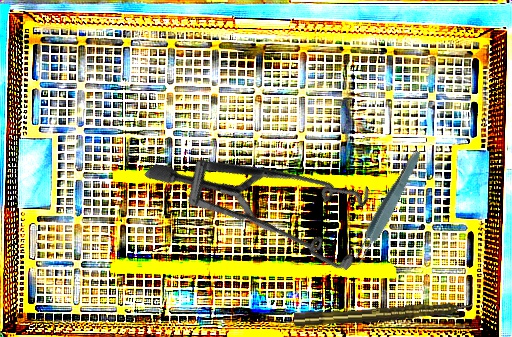Handpiece: (293, 298, 474, 329)
Speculum: (143, 69, 400, 329)
Tissue Forceps: (348, 147, 426, 268)
